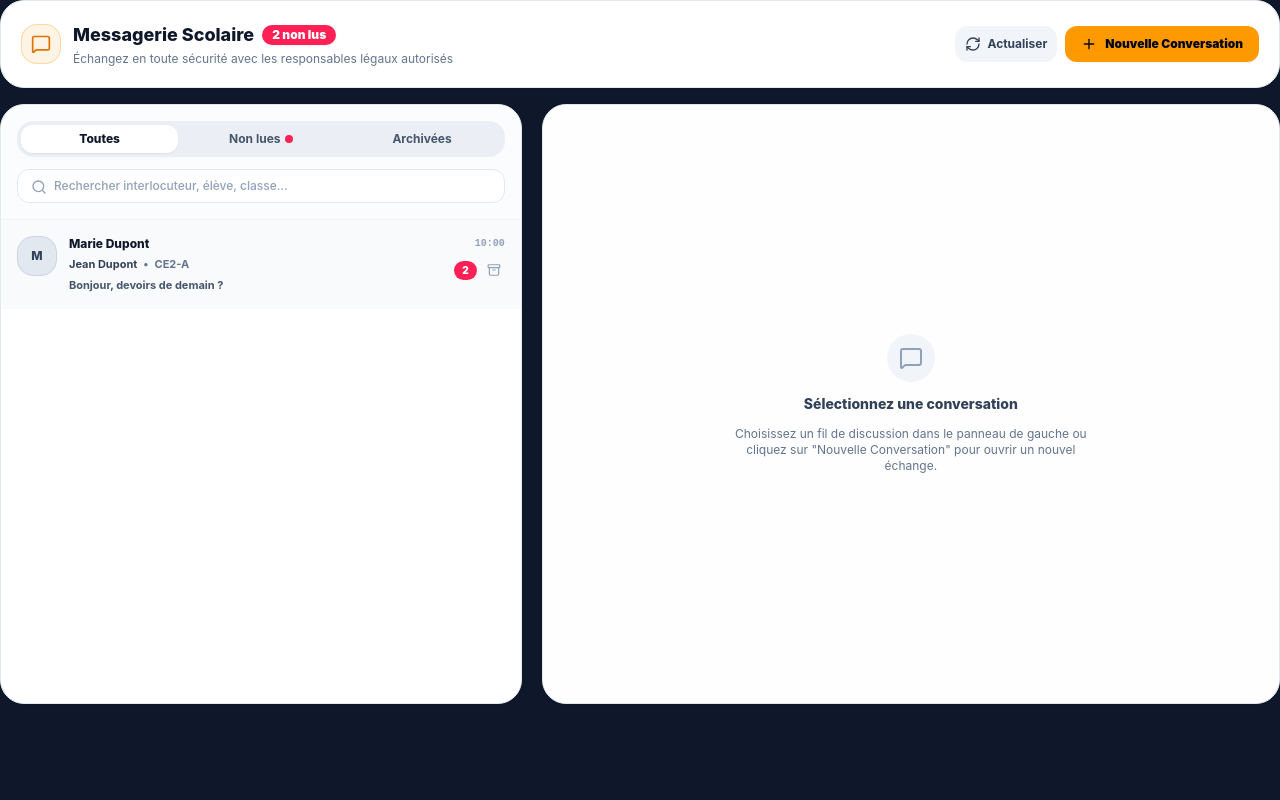
Scenario: SchoolMessagingModule — Suite complète de tests (30 Scénarios) › 11. Envoie un message avec succès et remet à zéro la zone de saisie
Click the text "Marie Dupont". click: (109, 244)
box: [69,236,149,252]
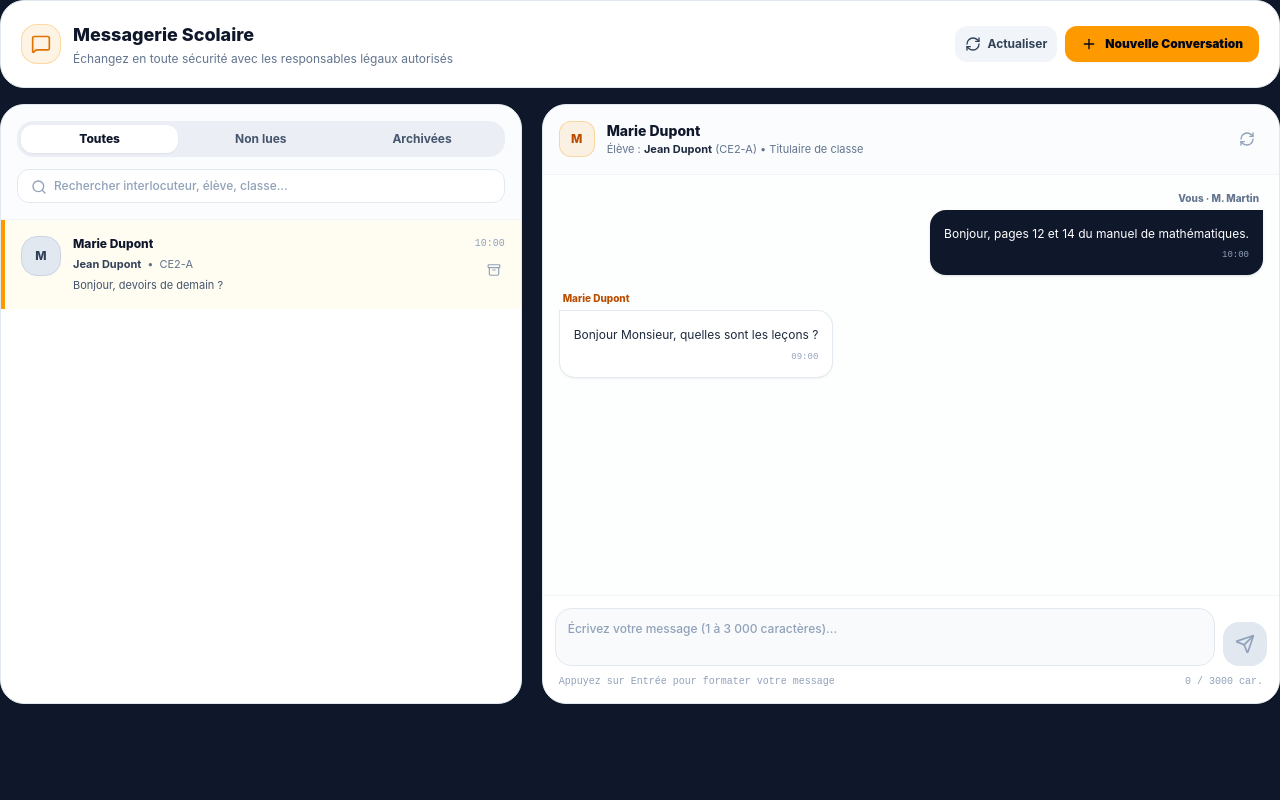
Check: the text box with placeholder "Écrivez votre message (1 à 3 000 caractères)..." is shown
Type "Nouveau message de test" into the text box with placeholder "Écrivez votre message (1 à 3 000 caractères)...". click: (885, 636)
box: [555,608,1215,666]
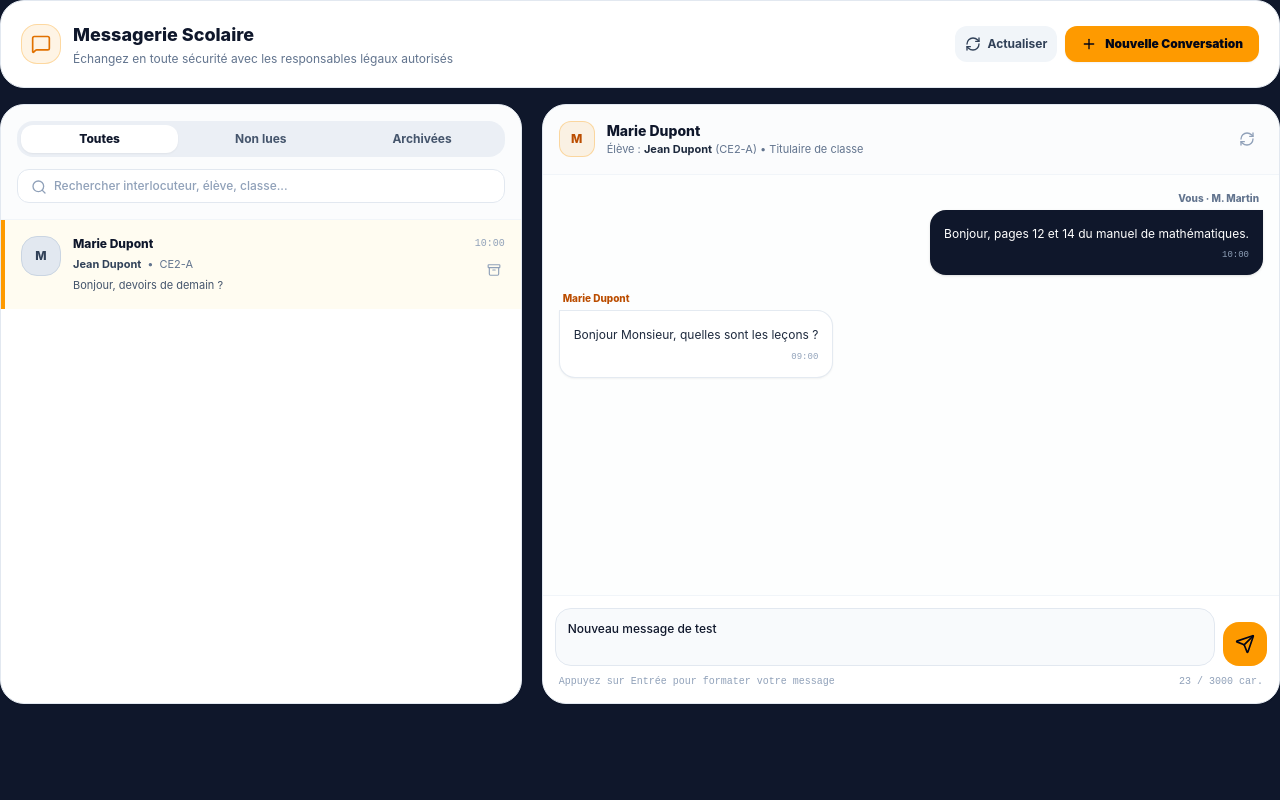
Click the button with test id "send-message-btn". click: (1245, 644)
box: [1223,622,1267,666]
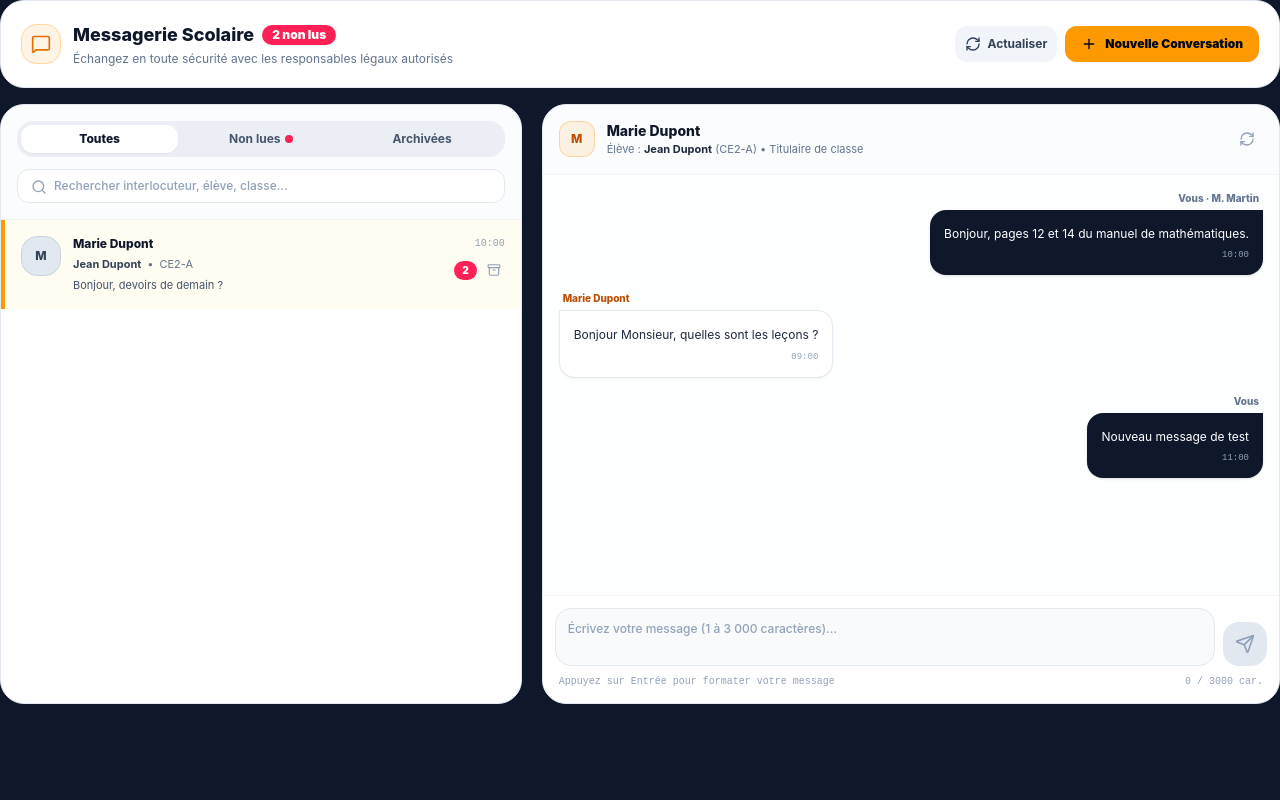
Check: the text "Nouveau message de test" is shown, box [1101,426,1249,446]
Check: the text box "Nouveau message de test" is empty, box [555,608,1215,666]
